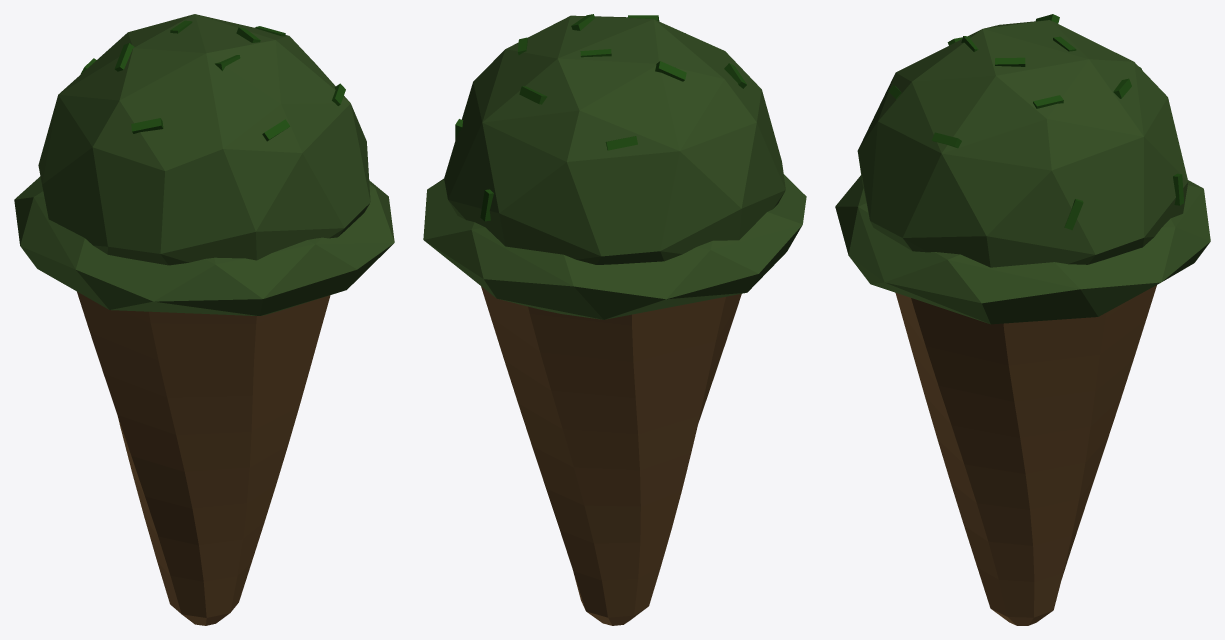
Rendered from IceCream_1.obj.
3 renders of one model, left to right at view 1: azimuth 30°, elevation 25°; view 2: azimuth 150°, elevation 25°; view 3: azimuth 270°, elevation 25°, orthographic.
Visible parts, largest first — view 1: IceCream_1_Cylinder.032; view 2: IceCream_1_Cylinder.032; view 3: IceCream_1_Cylinder.032.
Boxes of the visible parts, left/top/right/bottom form: IceCream_1_Cylinder.032: left=14, top=14, right=394, bottom=625; IceCream_1_Cylinder.032: left=423, top=14, right=806, bottom=625; IceCream_1_Cylinder.032: left=835, top=14, right=1210, bottom=625.
Bounding box in the file's own units: 0.7006 × 1.2 × 0.7006.
